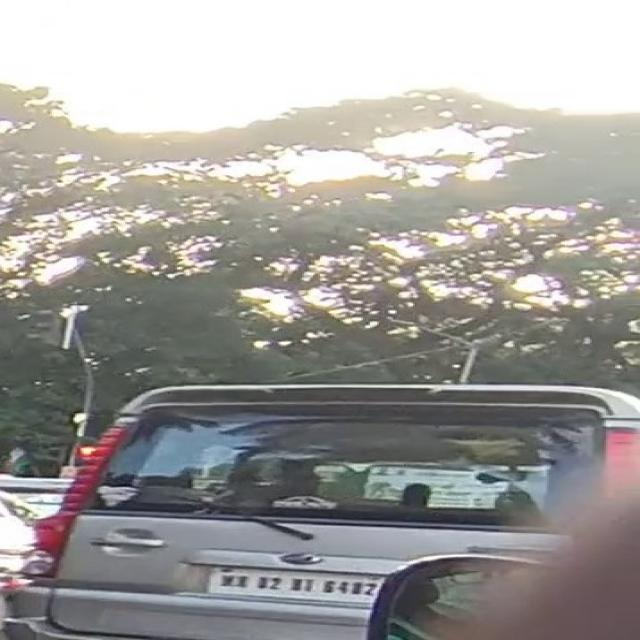Plate: (207, 566, 387, 605)
